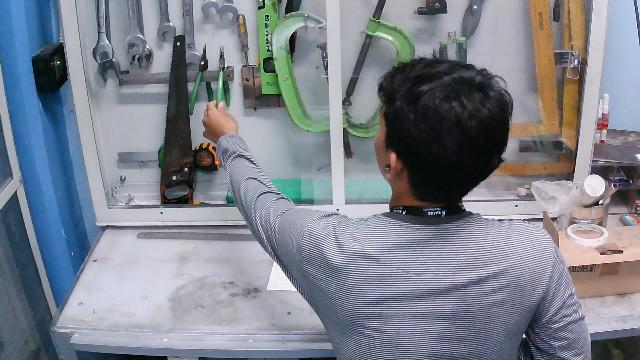tang_cucut_lancip_1: (210, 41, 236, 117)
